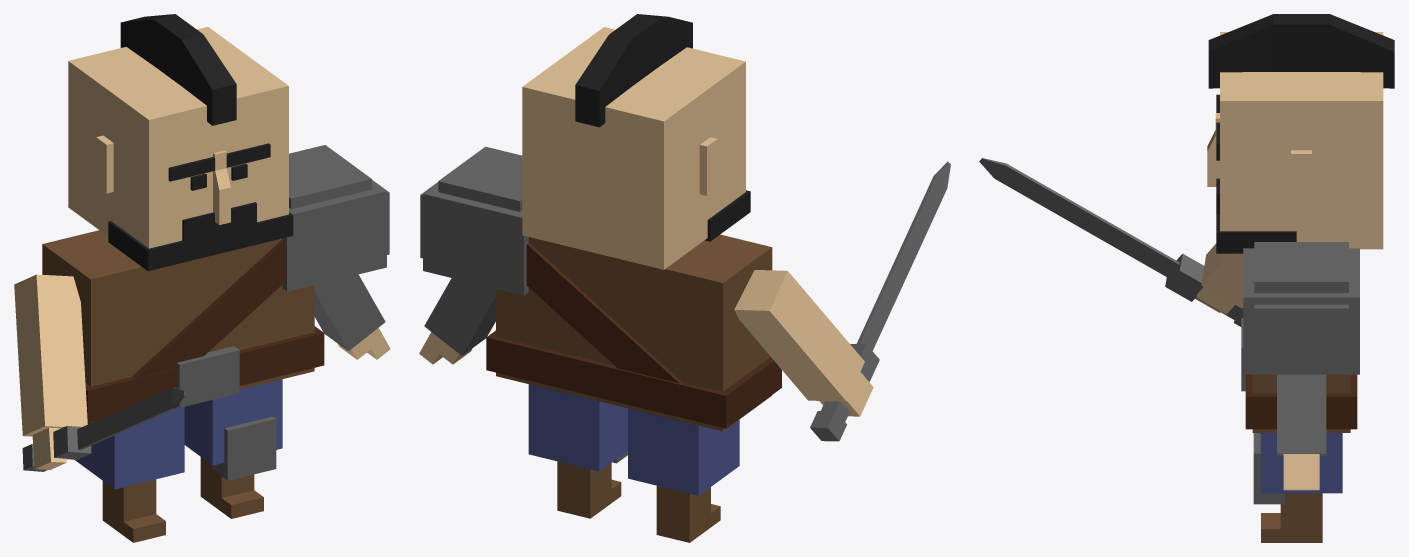
The model's file is voxel_warrior.glb.
The picture shows the model from 3 angles, left to right: view 1: azimuth 30°, elevation 25°; view 2: azimuth 150°, elevation 25°; view 3: azimuth 270°, elevation 25°; orthographic projection.
Visible parts, largest first — view 1: Head, Torso, Pauldron, RArm, Mohawk, Belt, Cube.004, Strap, RLeg, LLeg, LArm, Cube (+7 smaller); view 2: Head, Torso, Pauldron, Belt, RArm, RLeg, Mohawk, LLeg, Strap, Cube, LArm, RFoot (+4 smaller); view 3: Head, Pauldron, Mohawk, Cube, LArm, LLeg, Belt, LFoot, RArm, Cube.004, LHand, Torso (+2 smaller).
Boxes of the visible parts, x1=… form: Head: x1=68, y1=27, x2=288, y2=248; Torso: x1=42, y1=230, x2=314, y2=424; Pauldron: x1=282, y1=145, x2=389, y2=291; RArm: x1=14, y1=274, x2=87, y2=436; Mohawk: x1=120, y1=14, x2=236, y2=125; Belt: x1=85, y1=326, x2=324, y2=422; Cube.004: x1=108, y1=202, x2=293, y2=270; Strap: x1=132, y1=240, x2=285, y2=378; RLeg: x1=74, y1=406, x2=184, y2=489; LLeg: x1=184, y1=379, x2=282, y2=465; LArm: x1=314, y1=274, x2=385, y2=351; Cube: x1=22, y1=387, x2=185, y2=471; Head: x1=522, y1=27, x2=745, y2=269; Torso: x1=496, y1=234, x2=772, y2=431; Pauldron: x1=420, y1=146, x2=528, y2=295; Belt: x1=486, y1=330, x2=781, y2=428; RArm: x1=734, y1=270, x2=864, y2=401; RLeg: x1=628, y1=408, x2=739, y2=495; Mohawk: x1=575, y1=14, x2=692, y2=127; LLeg: x1=528, y1=384, x2=627, y2=471; Strap: x1=526, y1=243, x2=681, y2=383; Cube: x1=810, y1=161, x2=950, y2=441; LArm: x1=424, y1=278, x2=495, y2=355; RFoot: x1=656, y1=485, x2=720, y2=542; Head: x1=1207, y1=32, x2=1383, y2=249; Pauldron: x1=1243, y1=242, x2=1359, y2=374; Mohawk: x1=1208, y1=14, x2=1394, y2=88; Cube: x1=979, y1=158, x2=1243, y2=326; LArm: x1=1277, y1=374, x2=1326, y2=455; LLeg: x1=1260, y1=433, x2=1342, y2=493; Belt: x1=1245, y1=374, x2=1357, y2=429; LFoot: x1=1261, y1=493, x2=1322, y2=542; RArm: x1=1201, y1=243, x2=1243, y2=308; Cube.004: x1=1216, y1=178, x2=1296, y2=253; LHand: x1=1283, y1=454, x2=1319, y2=490; Torso: x1=1252, y1=374, x2=1350, y2=432.
Size of the model in its own units: 5.53 by 6.63 by 5.08.
